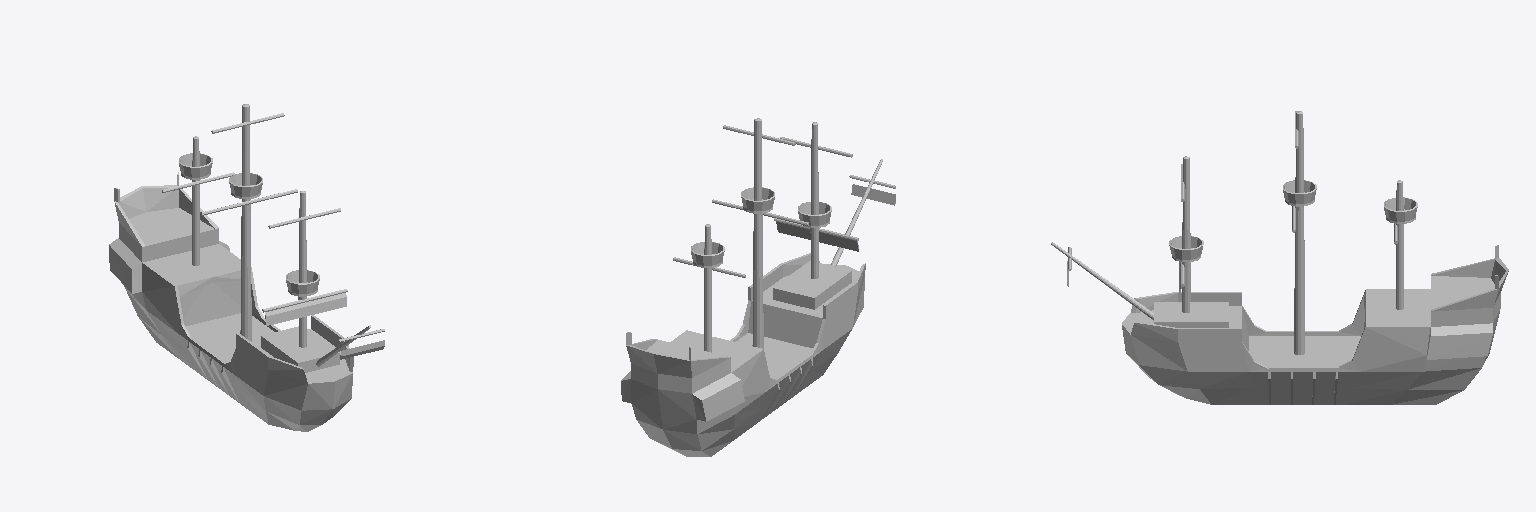
Rendered from Pirate Ship.obj.
3 views of the same model, side by side, from view 1: azimuth 30°, elevation 25°; view 2: azimuth 150°, elevation 25°; view 3: azimuth 270°, elevation 25° (orthographic).
Visible parts, largest first — view 1: Object.1, Object.2; view 2: Object.1, Object.2; view 3: Object.1, Object.2.
Boxes of the visible parts, x1,y1,x2,y2 form: Object.1: [109, 104, 384, 431]; Object.2: [179, 136, 212, 179]; Object.1: [621, 118, 895, 456]; Object.2: [691, 224, 724, 267]; Object.1: [1051, 111, 1508, 404]; Object.2: [1384, 180, 1417, 223].
Size of the model in its own units: 26.07 by 71.34 by 103.